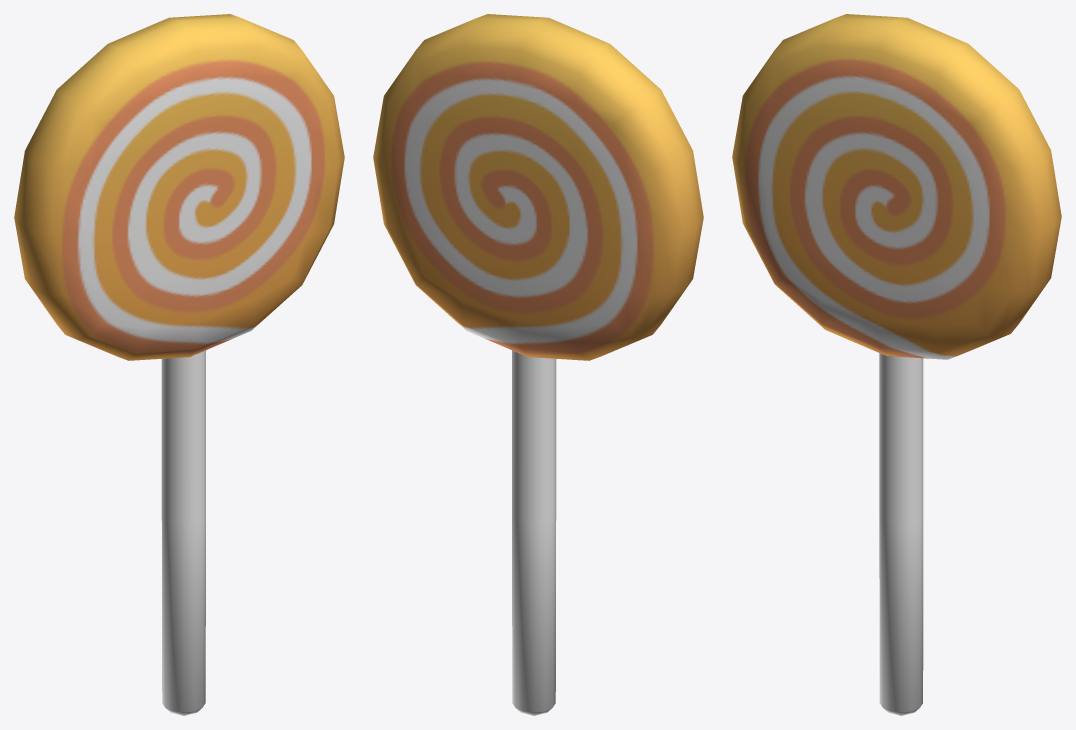
Rendered from candy.hw.fbx.
3 renders of one model, left to right at view 1: azimuth 30°, elevation 25°; view 2: azimuth 150°, elevation 25°; view 3: azimuth 330°, elevation 25°, orthographic.
Parts seen in each view (by area): view 1: candy; view 2: candy; view 3: candy.
Boxes of the visible parts, box(x1,y1,x2,y2) form: candy: box(14, 14, 344, 715); candy: box(373, 14, 703, 715); candy: box(732, 14, 1061, 715).
Size of the model in its own units: 0.1174 by 0.244 by 0.0266.
